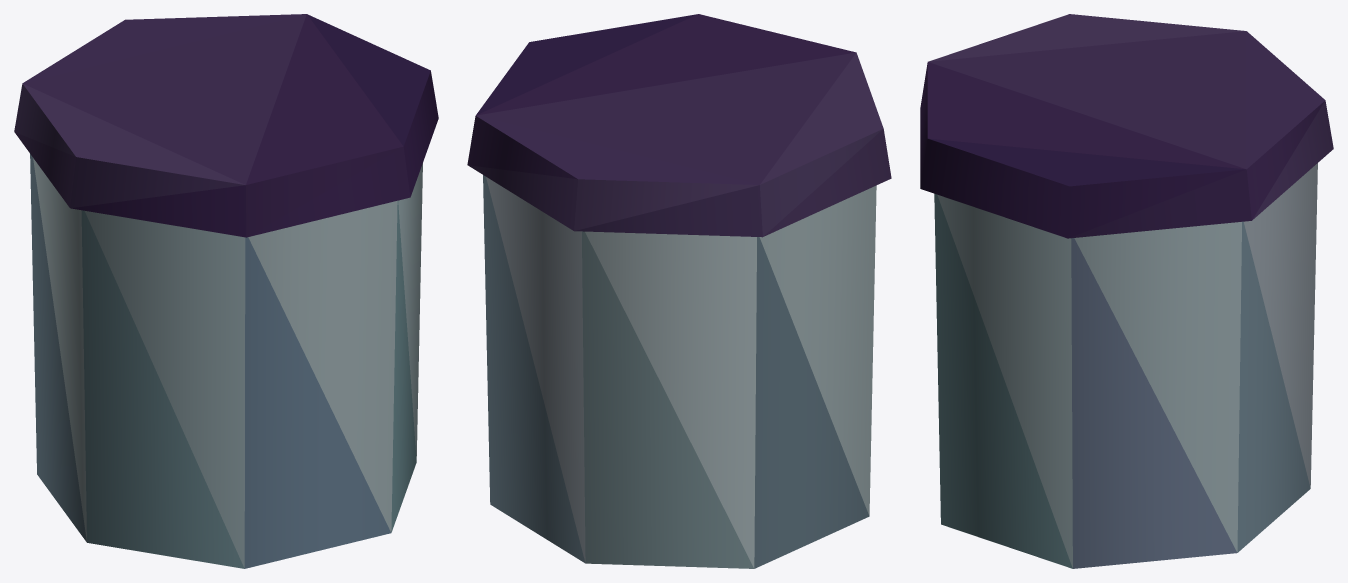
Rendered from hs_paint_pot.glb.
3 views of the same model, side by side, from view 1: azimuth 30°, elevation 25°; view 2: azimuth 150°, elevation 25°; view 3: azimuth 270°, elevation 25° (orthographic).
Parts seen in each view (by area): view 1: Paint_pot; view 2: Paint_pot; view 3: Paint_pot.
Part boxes in pixels (left/top/right/bottom): Paint_pot: left=14, top=14, right=438, bottom=568; Paint_pot: left=467, top=14, right=891, bottom=568; Paint_pot: left=920, top=14, right=1333, bottom=568.
Size of the model in its own units: 0.374 by 0.3781 by 0.3646.
